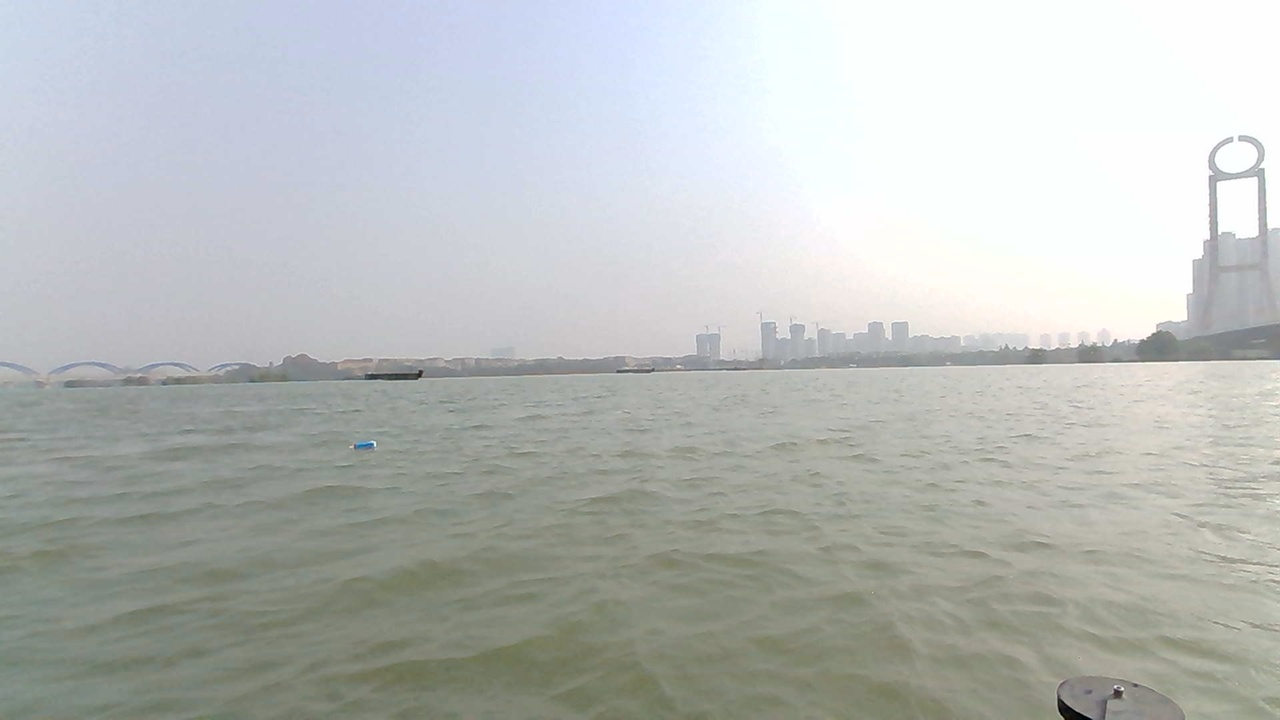bottle: (347, 438, 386, 457)
